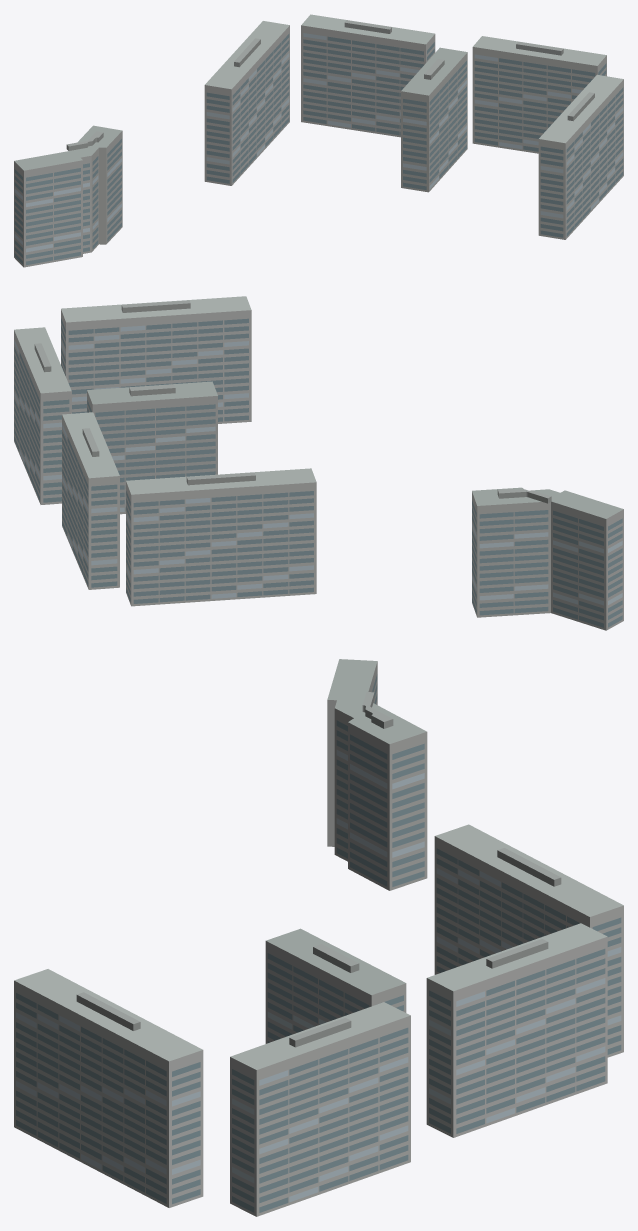
Rendered from apt-a13984409.glb.
3 renders of one model, top to bottom at view 1: azimuth 30°, elevation 25°; view 2: azimuth 150°, elevation 25°; view 3: azimuth 270°, elevation 25°, orthographic. The views are drawn at different scales.
Visible parts, largest first — view 1: apt-a13984409; view 2: apt-a13984409; view 3: apt-a13984409.
Boxes of the visible parts, x1=… form: apt-a13984409: x1=14, y1=14, x2=623, y2=267; apt-a13984409: x1=14, y1=296, x2=623, y2=630; apt-a13984409: x1=14, y1=659, x2=623, y2=1216.
Size of the model in its own units: 235 by 41 by 148.
